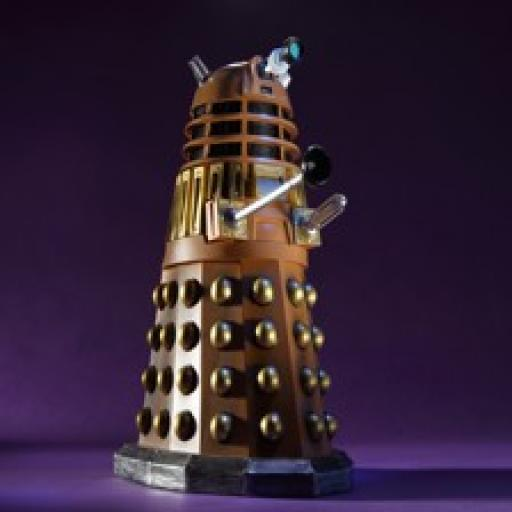dalek: (109, 37, 359, 502)
